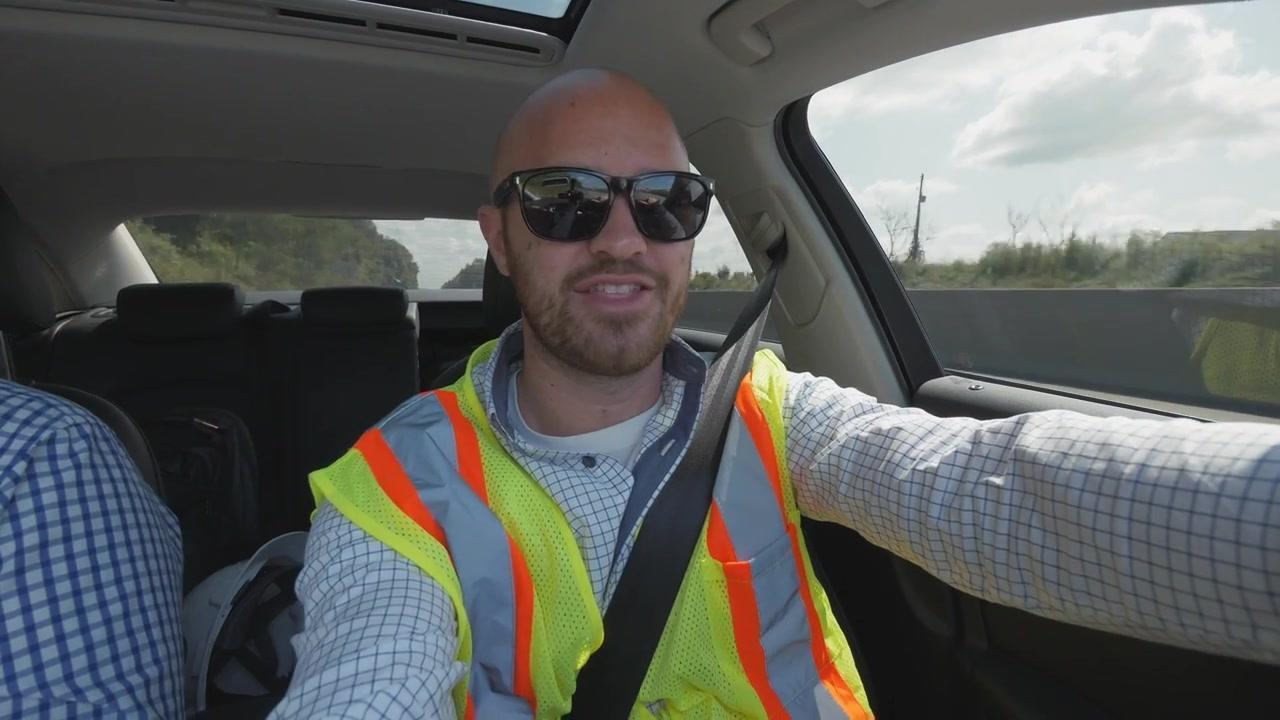vest: (307, 338, 878, 719)
